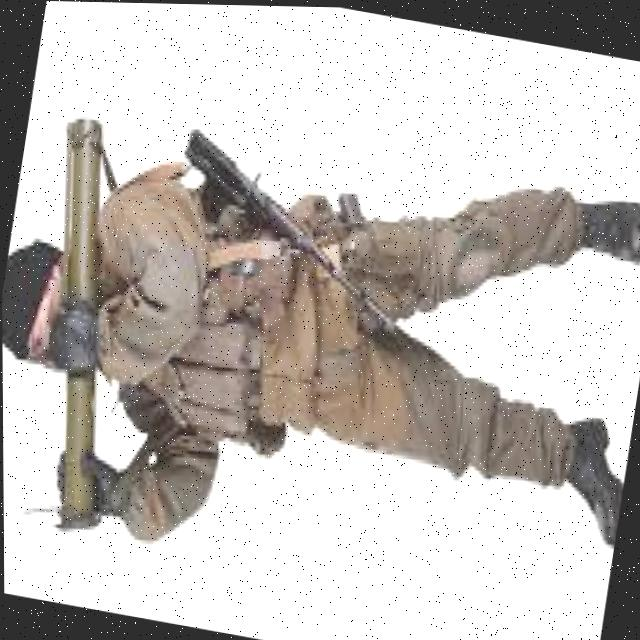rocket: (1, 109, 161, 546)
